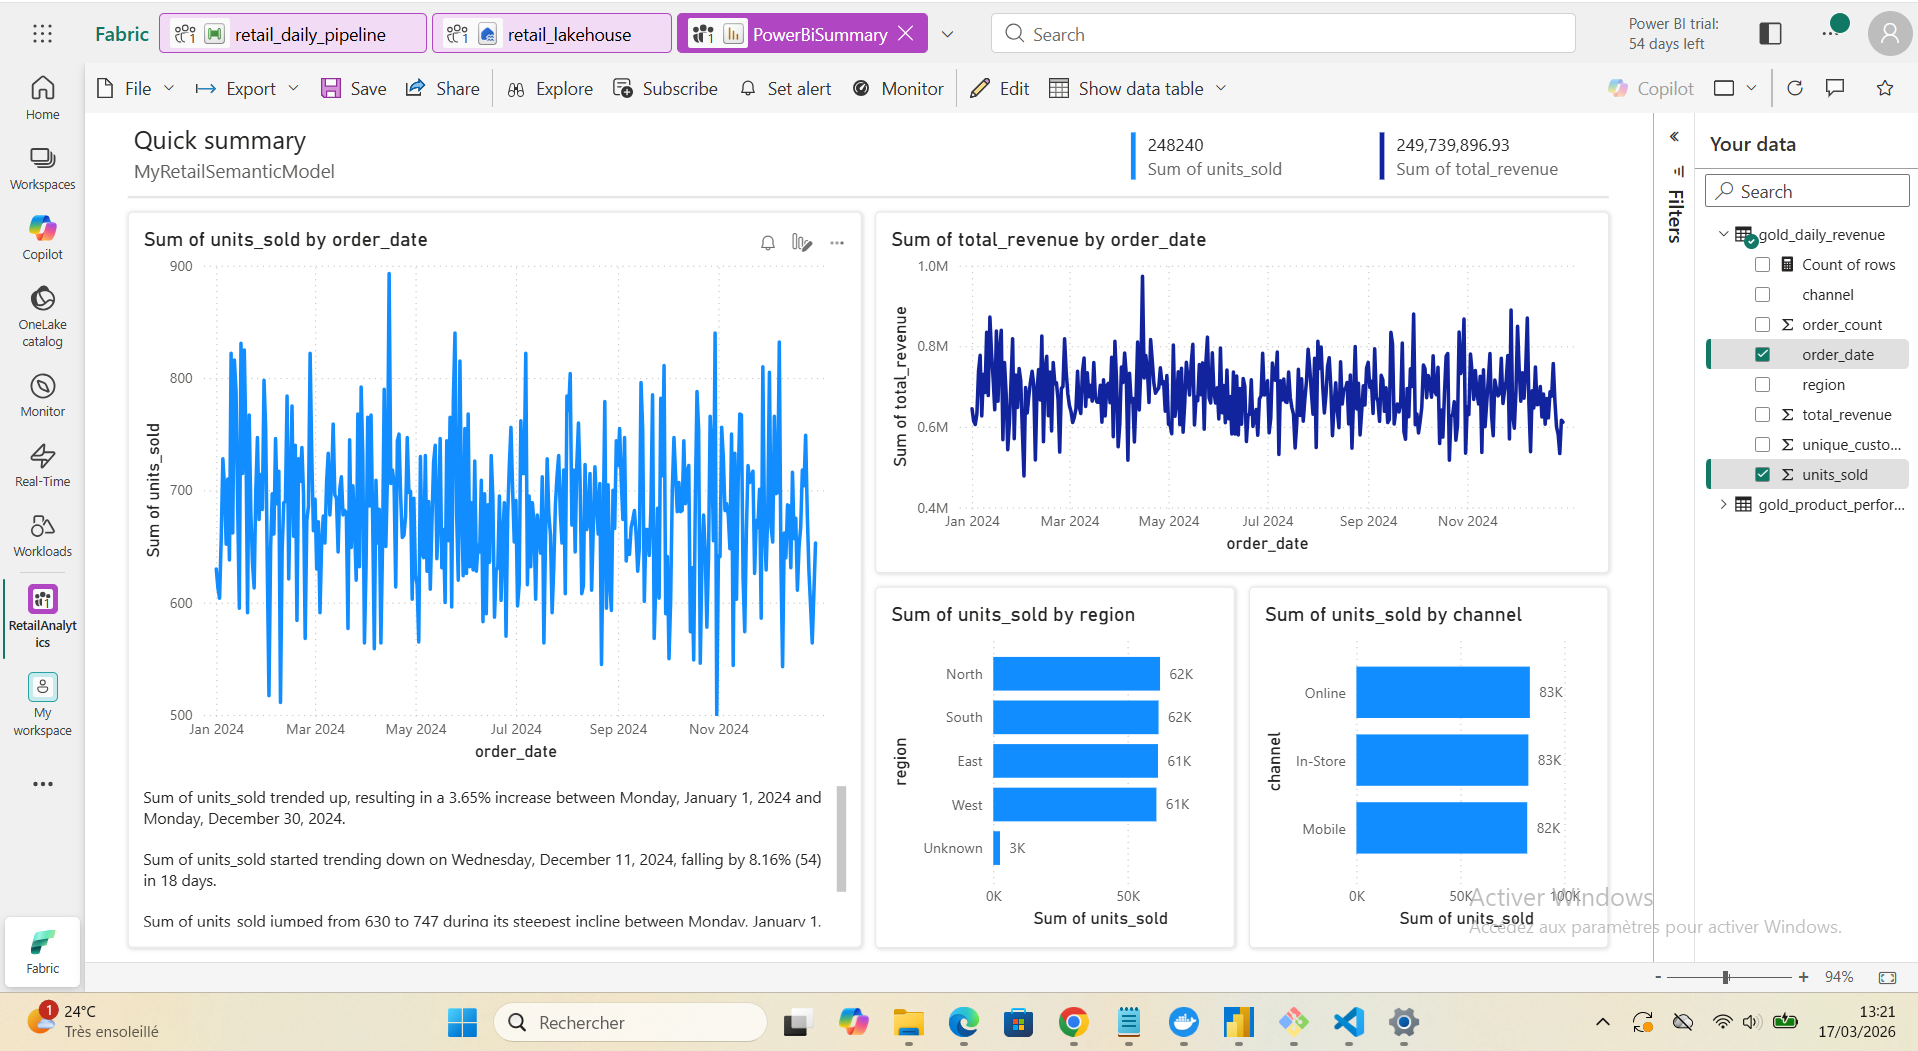

This screenshot's page, from the dashboard's own definition file:
{"tool":"powerbi","page":{"name":"Page 1","canvas":[1280,720],"ordinal":0},"visuals":[{"type":"shape","box":[12,58,1256,26],"z":0},{"type":"shape","box":[12,84,622,624],"z":1000},{"type":"shape","box":[646,84,622,306],"z":2000},{"type":"shape","box":[646,402,305,306],"z":3000},{"type":"shape","box":[963,402,305,306],"z":4000},{"type":"clusteredBarChart","fields":{"Category":["gold_daily_revenue.channel"],"Y":["Sum(gold_daily_revenue.units_sold)"]},"box":[971,414,289,282],"z":5000},{"type":"clusteredBarChart","fields":{"Category":["gold_daily_revenue.region"],"Y":["Sum(gold_daily_revenue.units_sold)"]},"box":[654,414,289,282],"z":6000},{"type":"lineChart","fields":{"Category":["gold_daily_revenue.order_date"],"Y":["Sum(gold_daily_revenue.total_revenue)"]},"box":[654,96,606,282],"z":7000},{"type":"textbox","box":[20,566,606,129],"z":8000},{"type":"lineChart","fields":{"Category":["gold_daily_revenue.order_date"],"Y":["Sum(gold_daily_revenue.units_sold)"]},"box":[20,96,606,458],"z":9000},{"type":"multiRowCard","fields":{"Values":["Sum(gold_daily_revenue.total_revenue)"]},"box":[1069,12,199,50],"z":10000},{"type":"multiRowCard","fields":{"Values":["Sum(gold_daily_revenue.units_sold)"]},"box":[858,12,199,50],"z":11000},{"type":"textbox","box":[12,33,306,32],"z":12000},{"type":"textbox","box":[12,2,306,39],"z":13000}]}

Visuals, with their boxes on the page's 1280x720 design canvas (x1, y1, x2, y2). These are canvas units, not pixel positions in the 1918x1051 screenshot, which may show the page scaled, cropped or inside an application window:
shape: 12, 58, 1268, 84
shape: 12, 84, 634, 708
shape: 646, 84, 1268, 390
shape: 646, 402, 951, 708
shape: 963, 402, 1268, 708
clusteredBarChart - gold_daily_revenue.channel x Sum(gold_daily_revenue.units_sold): 971, 414, 1260, 696
clusteredBarChart - gold_daily_revenue.region x Sum(gold_daily_revenue.units_sold): 654, 414, 943, 696
lineChart - gold_daily_revenue.order_date x Sum(gold_daily_revenue.total_revenue): 654, 96, 1260, 378
textbox: 20, 566, 626, 695
lineChart - gold_daily_revenue.order_date x Sum(gold_daily_revenue.units_sold): 20, 96, 626, 554
multiRowCard - Sum(gold_daily_revenue.total_revenue): 1069, 12, 1268, 62
multiRowCard - Sum(gold_daily_revenue.units_sold): 858, 12, 1057, 62
textbox: 12, 33, 318, 65
textbox: 12, 2, 318, 41
